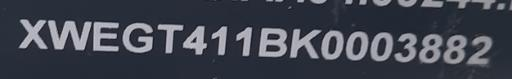letter: (47, 18, 91, 49), (122, 20, 156, 53), (288, 27, 322, 60), (154, 21, 186, 56), (257, 24, 289, 59), (92, 19, 122, 52), (466, 32, 494, 67), (18, 19, 48, 50), (184, 22, 210, 57), (368, 28, 394, 63), (232, 21, 256, 58), (343, 28, 369, 61), (418, 32, 444, 65), (394, 31, 418, 66), (208, 23, 232, 56), (444, 31, 466, 66), (322, 27, 344, 60)
